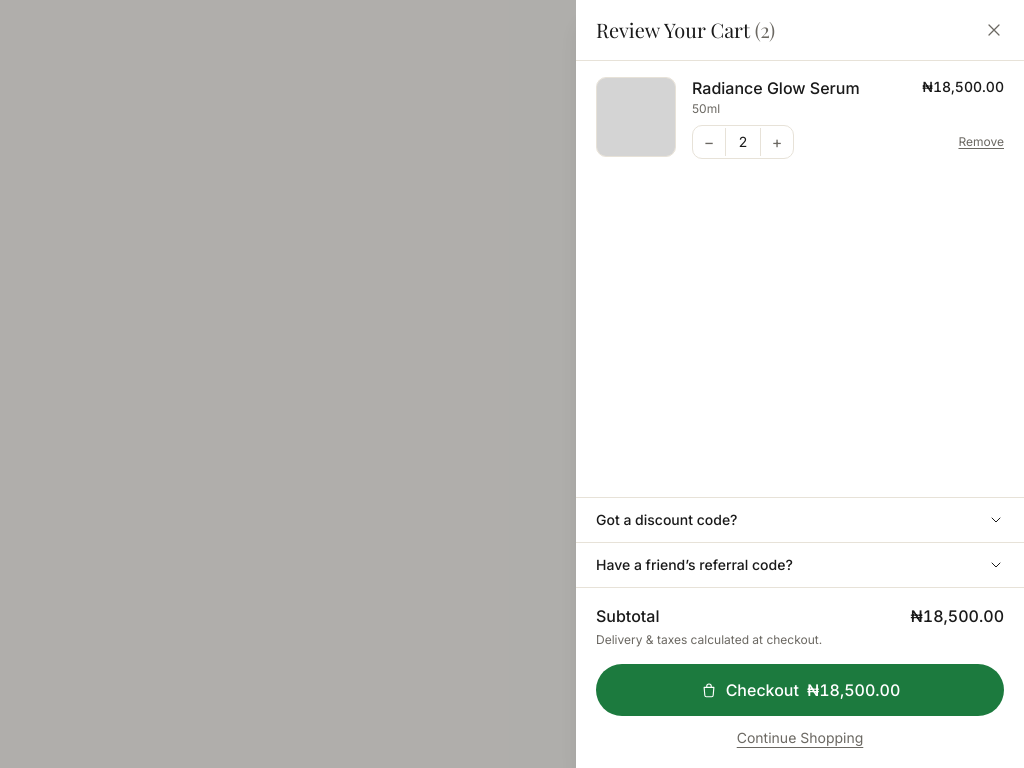
Test: CartDrawer › stashes a discount code for checkout instead of validating it here
The width and height of the screenshot is (1024, 768).
Click the button "Got a discount code?" at (667, 520), box x1=596 y1=510 x2=1004 y2=530
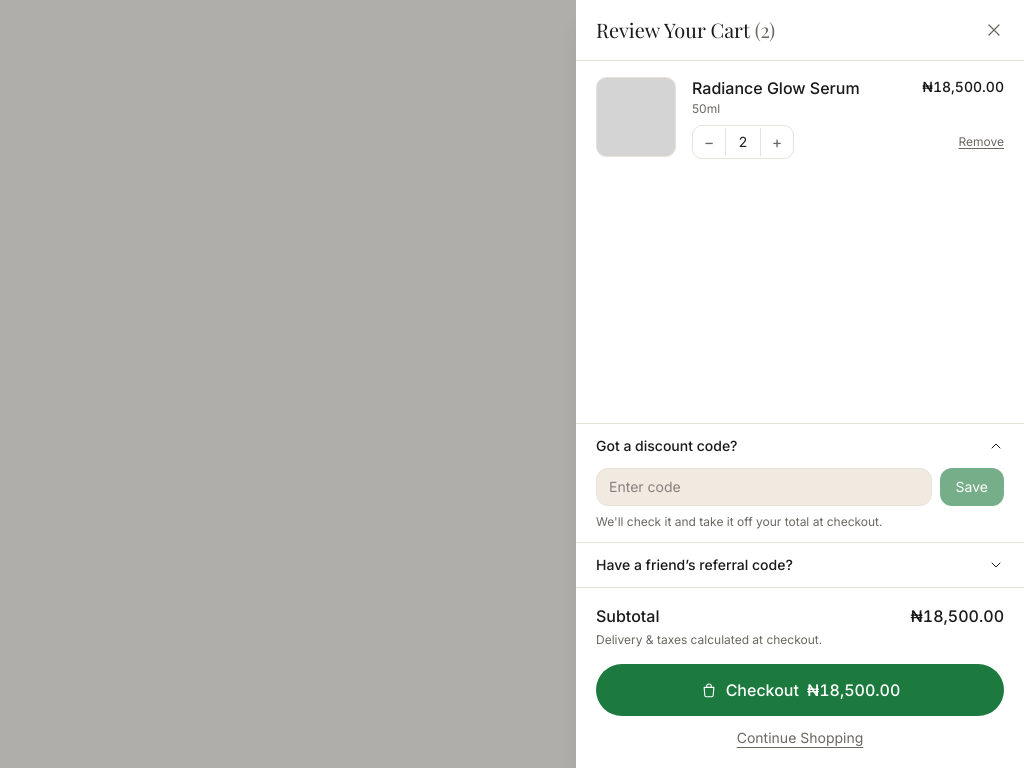
Type "SAVE10" into the field named "Discount code" at (764, 487), box x1=596 y1=468 x2=932 y2=506
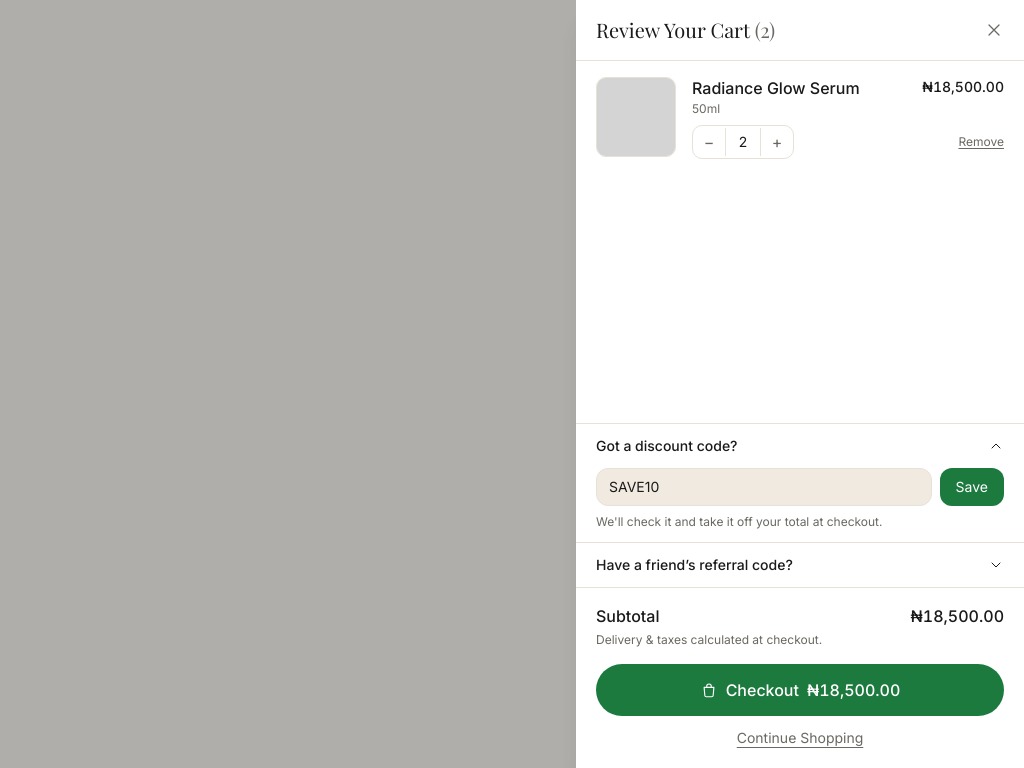
Click the button "Save" at (972, 487), box x1=940 y1=468 x2=1004 y2=506
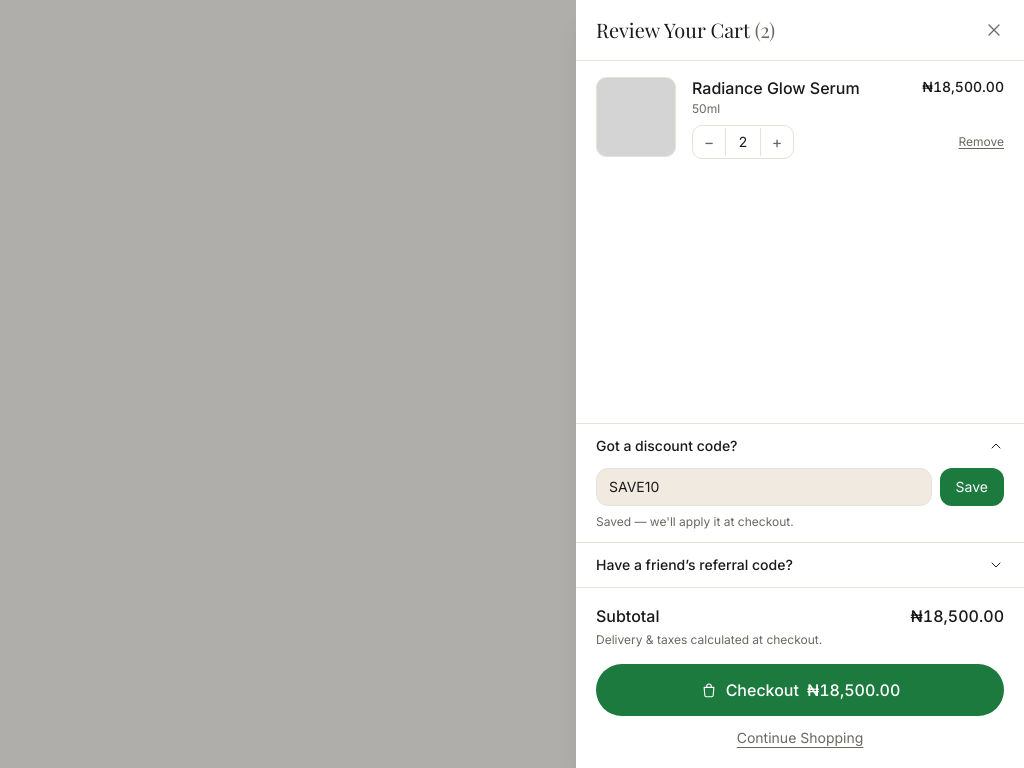
Check: the text "Saved — we'll apply it at checkout." is shown, box x1=596 y1=514 x2=794 y2=529
